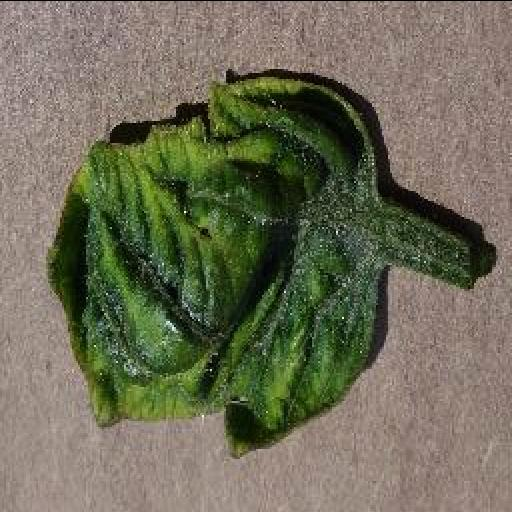disease_tomato: (42, 70, 390, 460)
